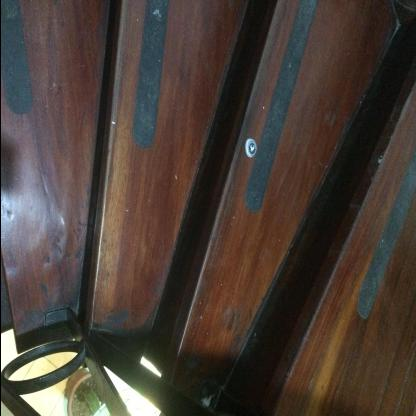metal: (244, 138, 256, 158)
